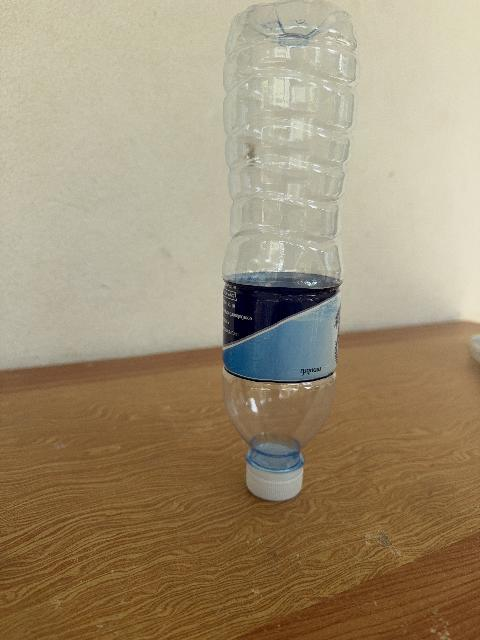bottle: (222, 0, 356, 500)
